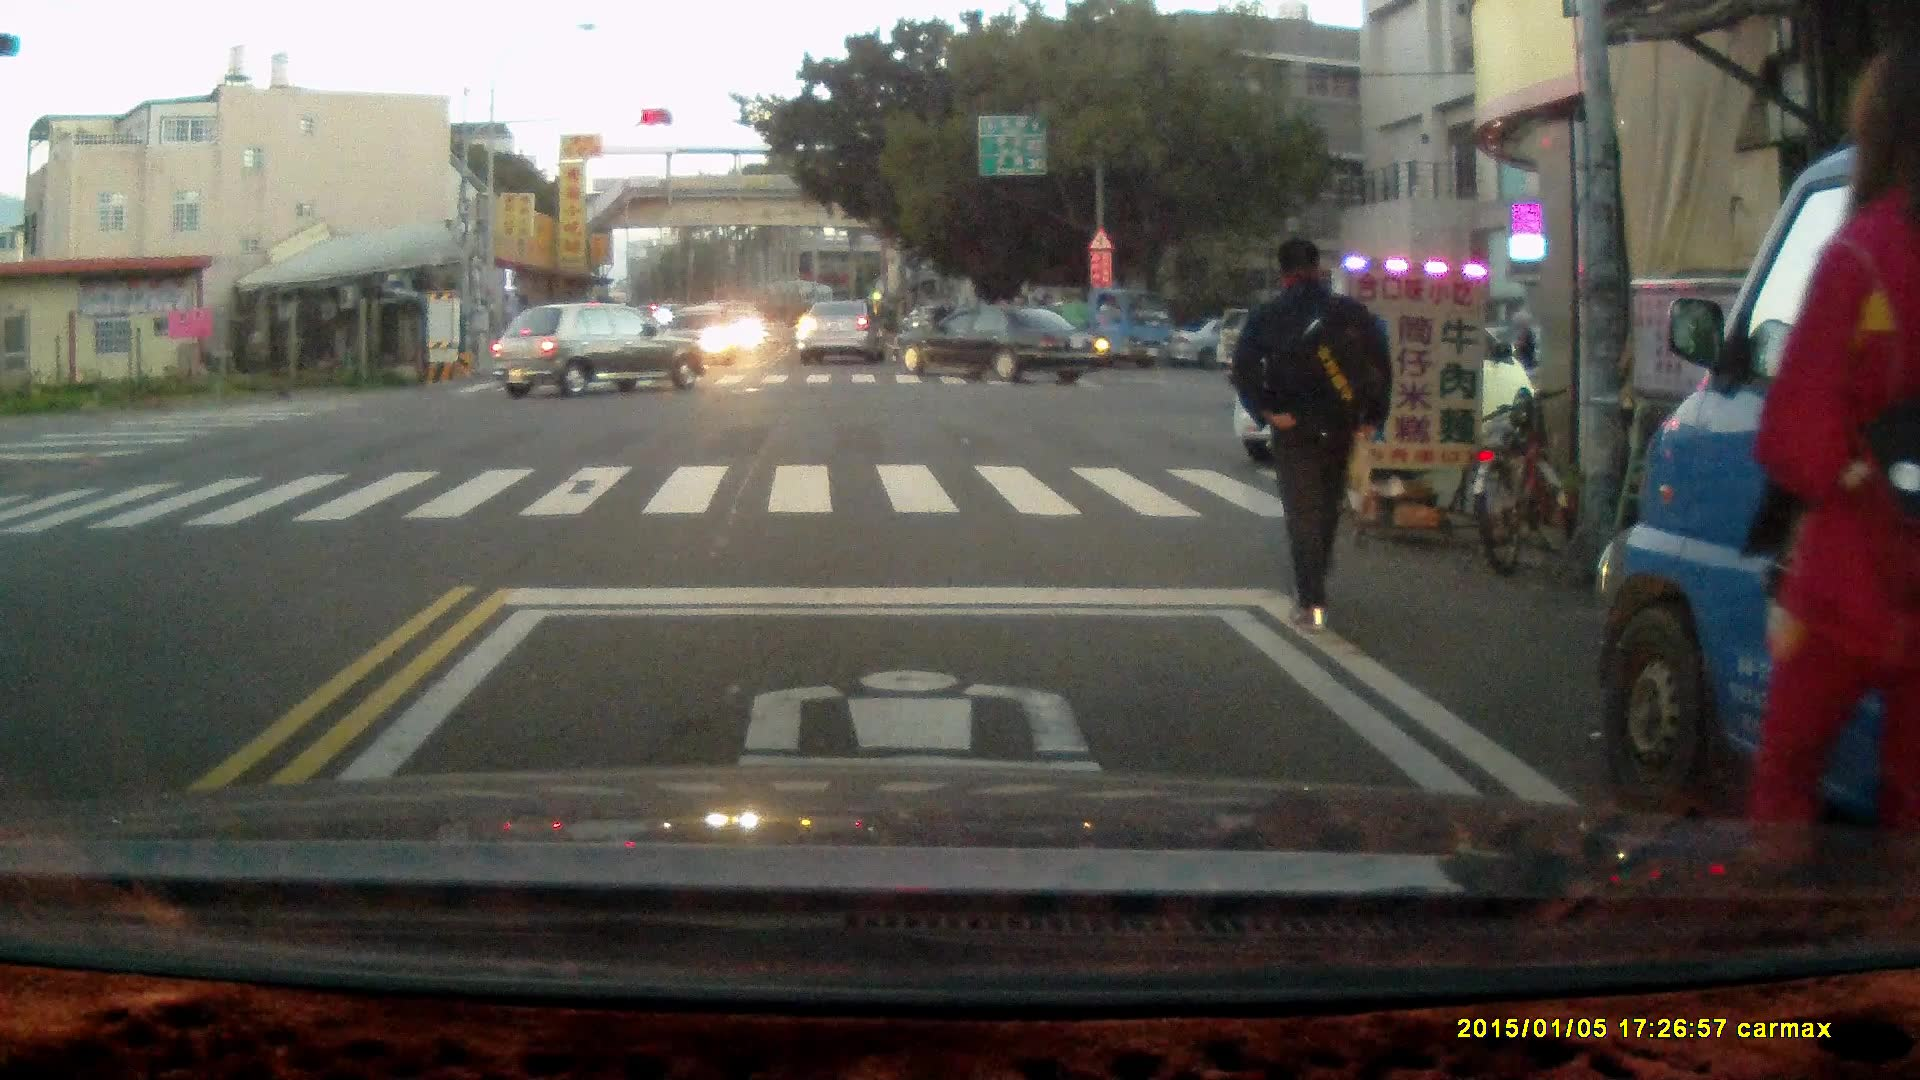pedestrian: (1741, 57, 1920, 862), (1227, 235, 1391, 639), (933, 293, 954, 355)
vehicle: (1598, 132, 1920, 852), (1233, 296, 1533, 459), (485, 305, 710, 400), (889, 303, 1114, 381), (1002, 284, 1175, 367), (801, 301, 886, 370)
